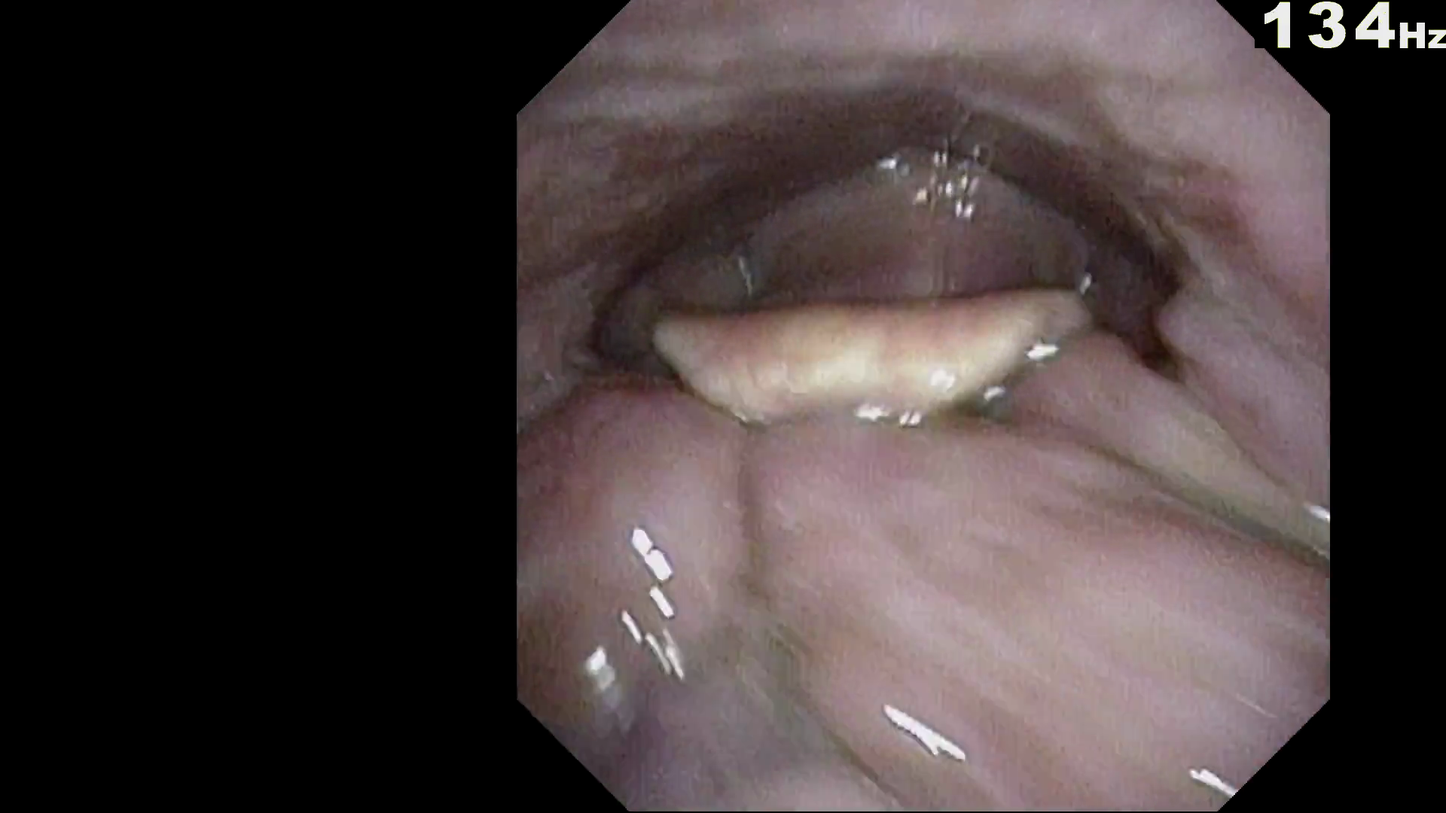epiglottis: (616, 352, 1167, 569)
